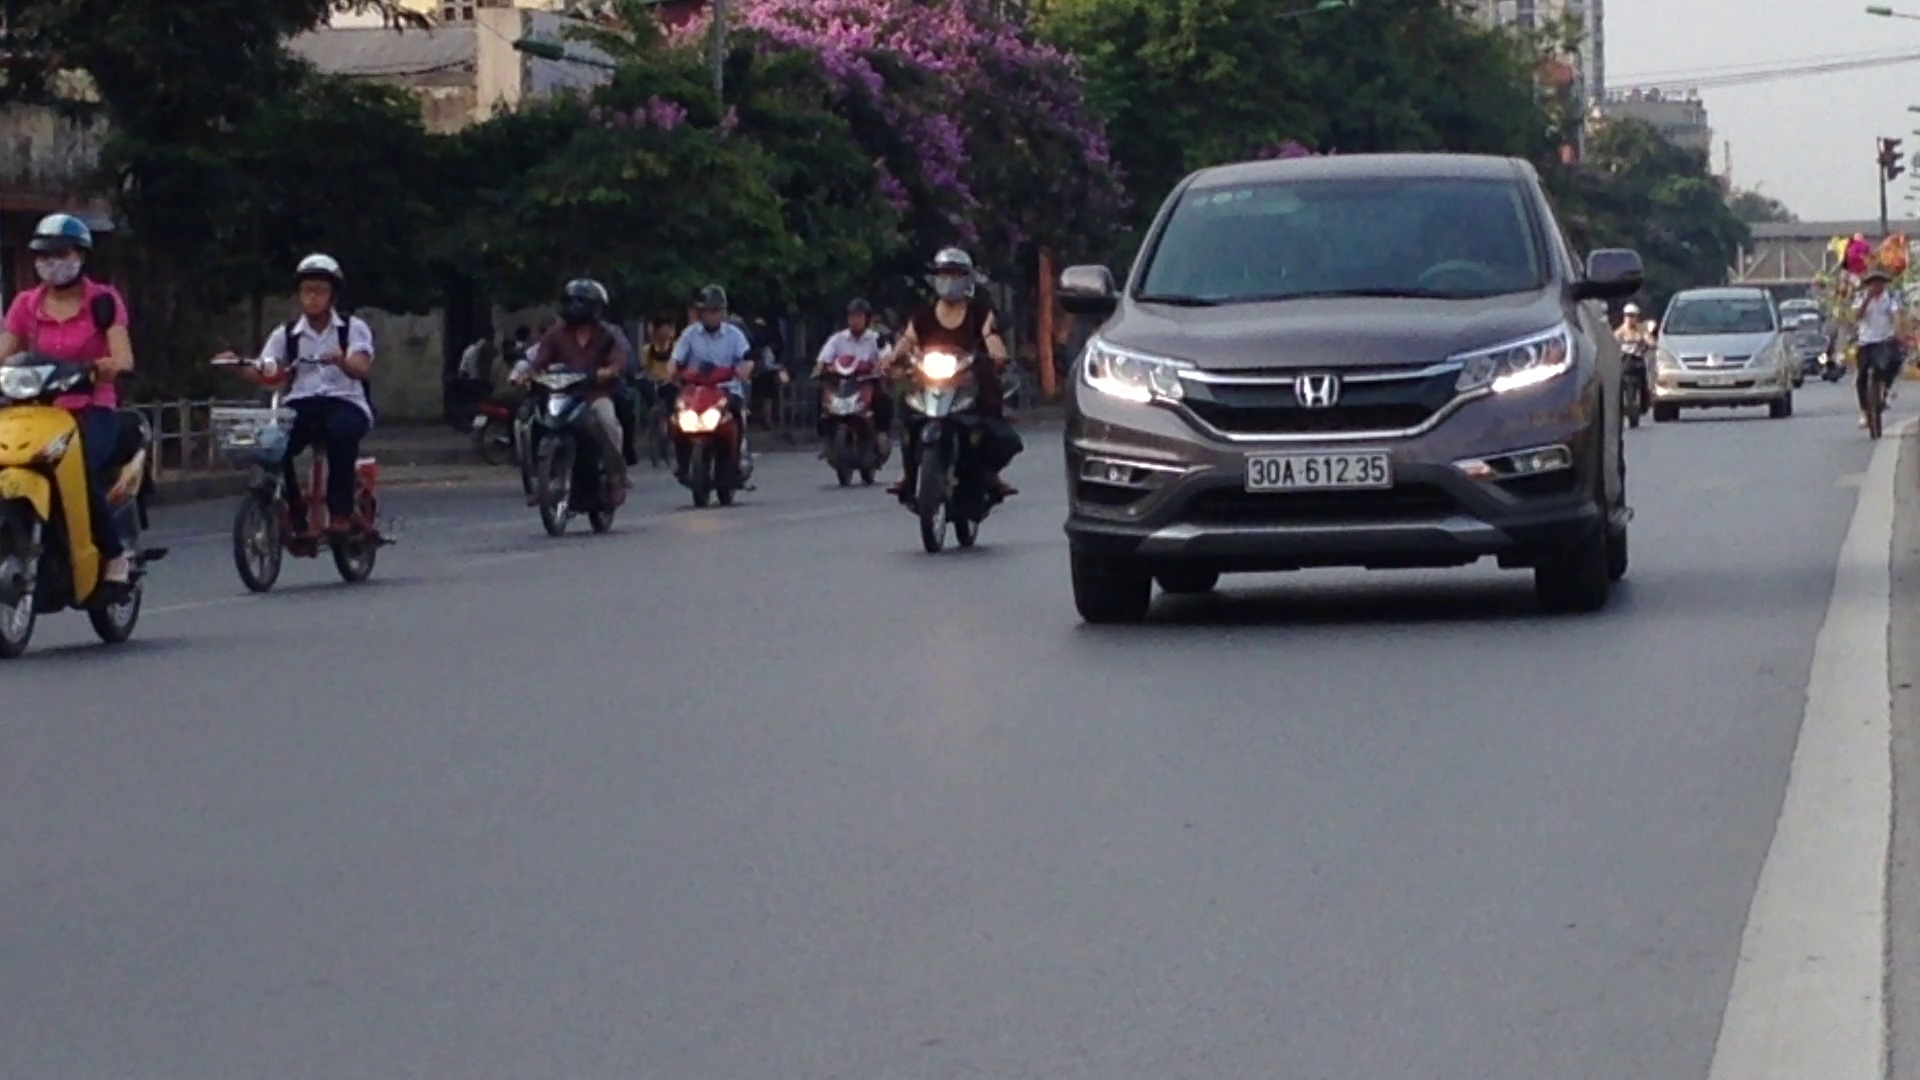vehicle-plate: (1240, 441, 1399, 495)
